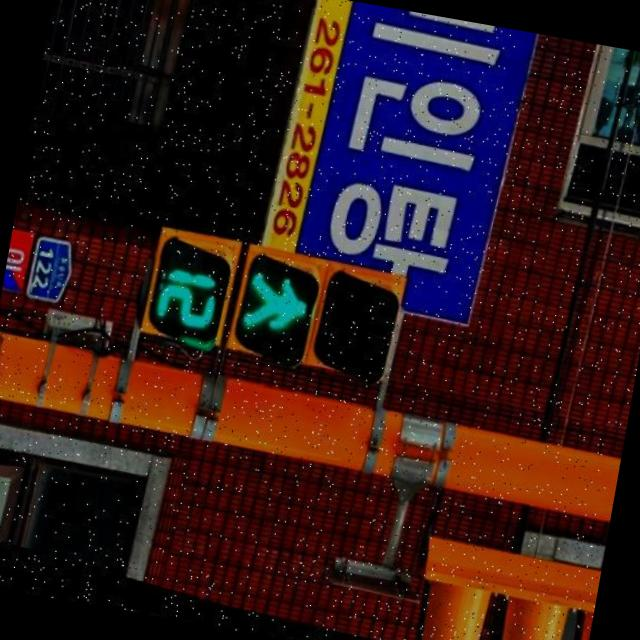green_light: (146, 242, 331, 382)
